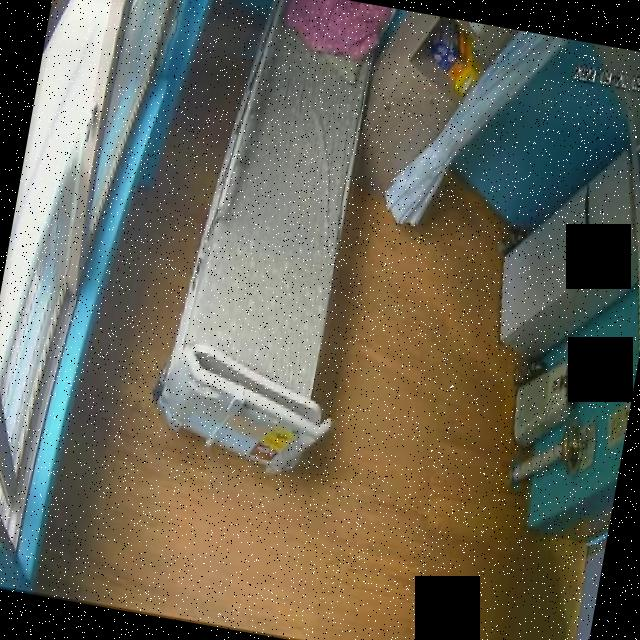bed: (154, 0, 391, 469)
